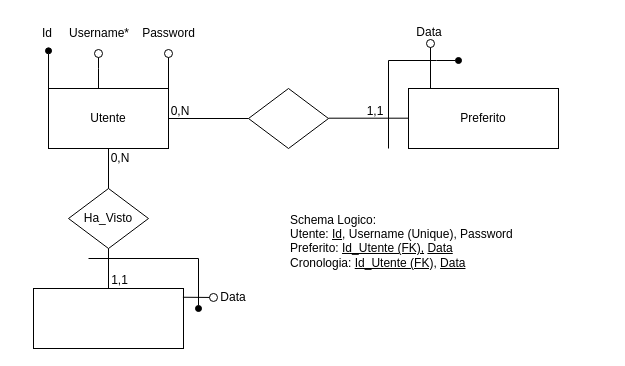
Image size: 625x366. Some labels were removed from this diagram. The shapes that lost their labels are listed below. From the top down, each one's centre as x and y in pixels, then its label:
At [288,118]: "Ha".
At [108,318]: "Cronologia".
